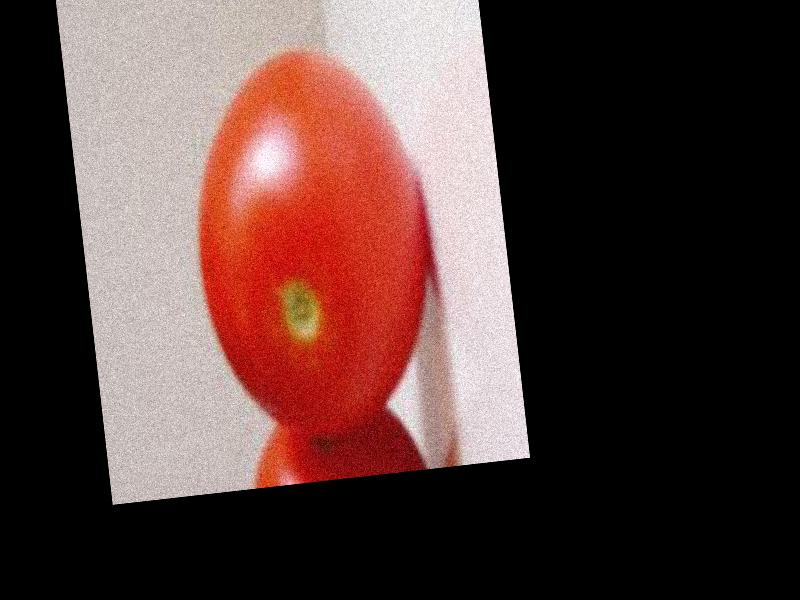Tomato: (178, 38, 445, 442)
